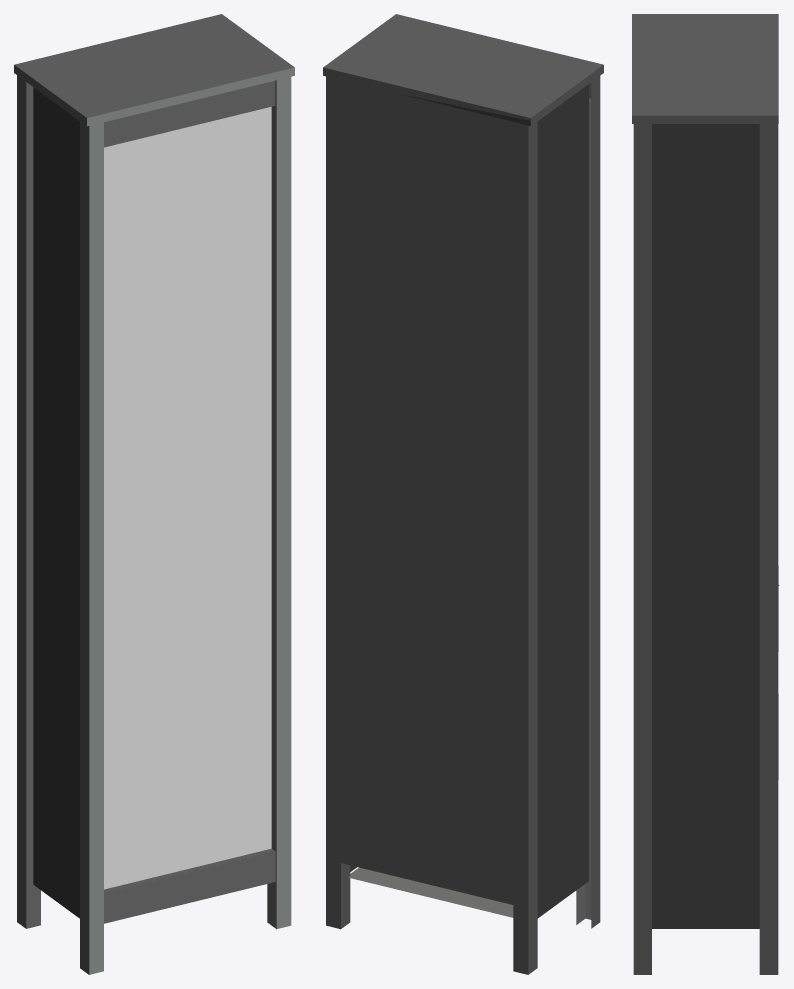
File: M_qiangjiaogui02.FBX
3 renders of one model, left to right at view 1: azimuth 30°, elevation 25°; view 2: azimuth 150°, elevation 25°; view 3: azimuth 270°, elevation 25°, orthographic.
Parts seen in each view (by area): view 1: M_qiangjiaogui02_02, M_qiangjiaogui02_01, M_qiangjiaogui02_03; view 2: M_qiangjiaogui02_01, M_qiangjiaogui02_03; view 3: M_qiangjiaogui02_03, M_qiangjiaogui02_01.
Boxes of the visible parts, x1,y1,x2,y2 form: M_qiangjiaogui02_02: (104,106,271,889); M_qiangjiaogui02_01: (14,14,294,974); M_qiangjiaogui02_03: (33,87,79,918); M_qiangjiaogui02_01: (323,14,603,974); M_qiangjiaogui02_03: (350,84,588,918); M_qiangjiaogui02_03: (652,124,759,928); M_qiangjiaogui02_01: (632,14,779,974).
Size of the model in its own units: 1 by 3.96 by 0.6157.
